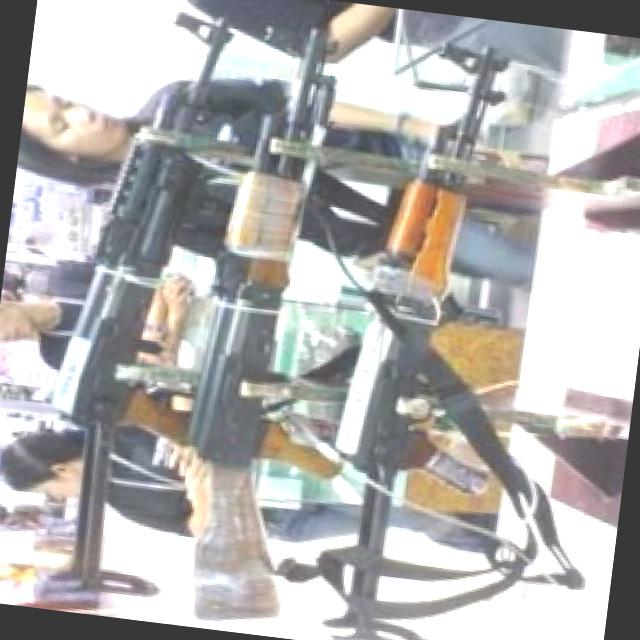long weapon: (36, 6, 274, 627), (307, 21, 544, 639), (177, 14, 398, 639)
